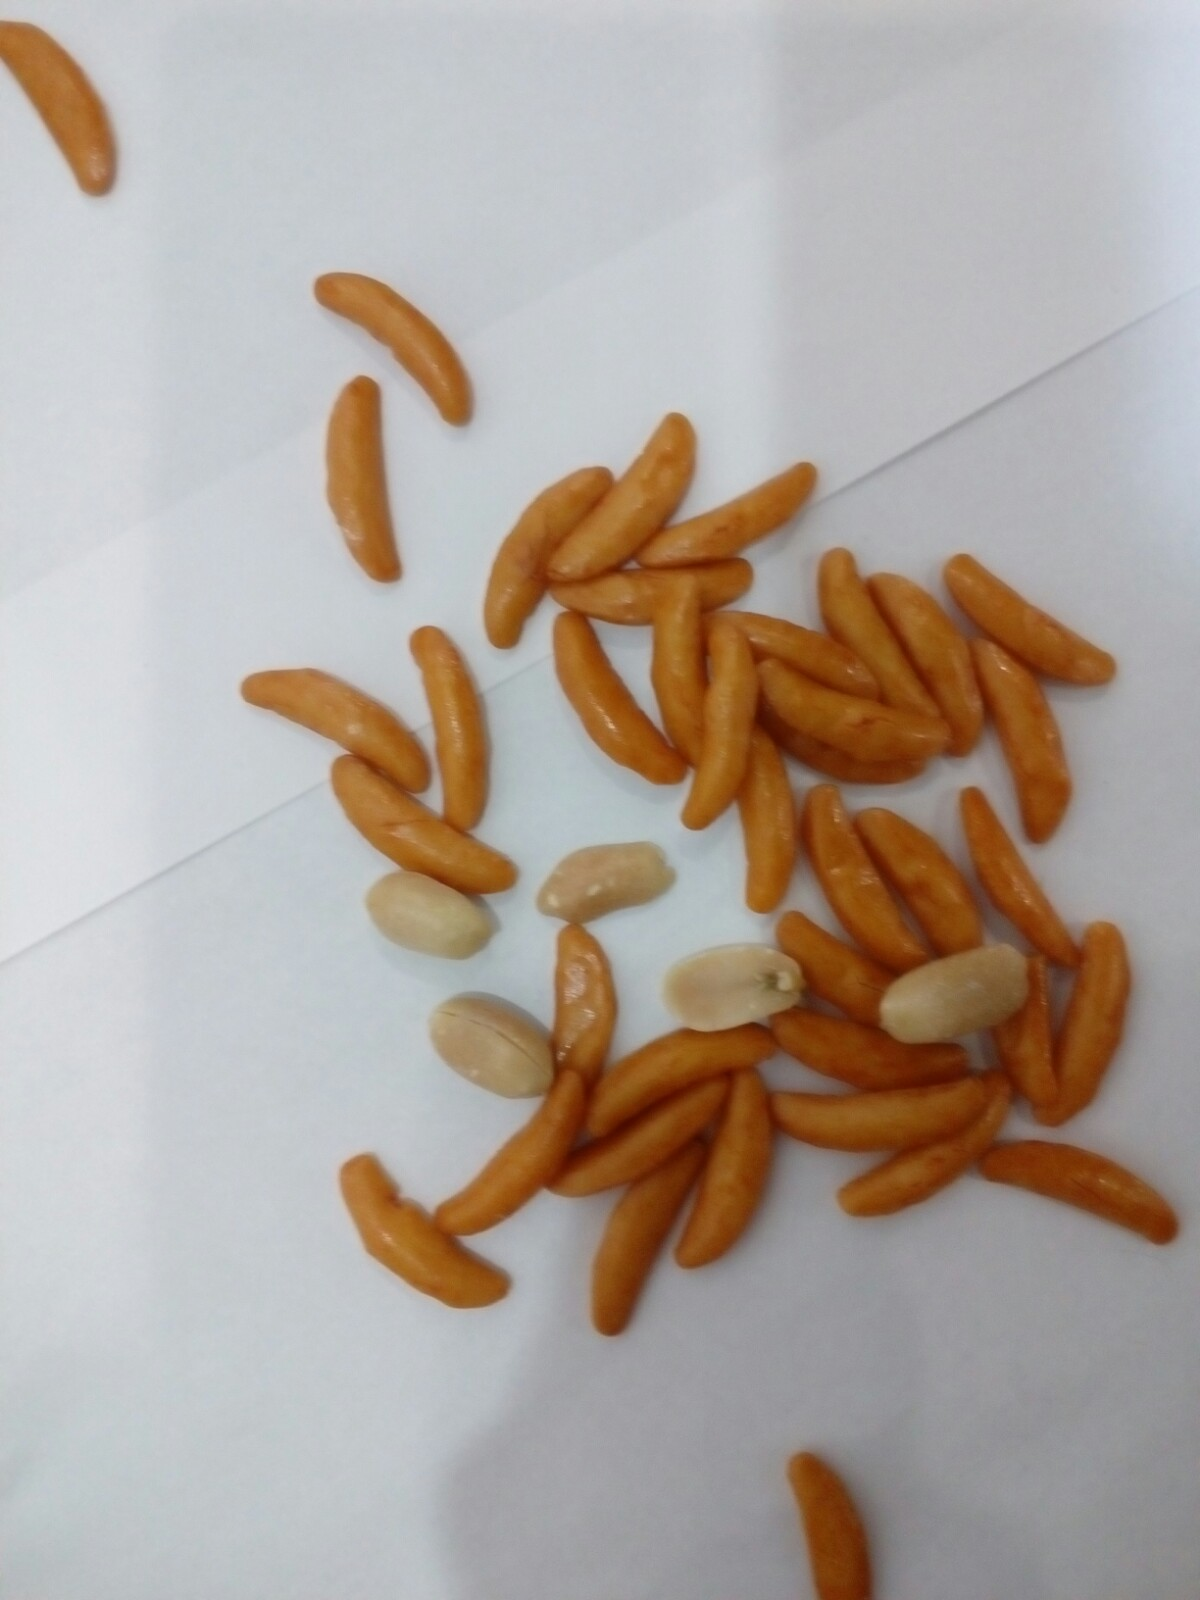peanut: (875, 934, 1037, 1054), (431, 986, 562, 1107), (661, 939, 803, 1031), (366, 867, 500, 963), (541, 838, 676, 923)
